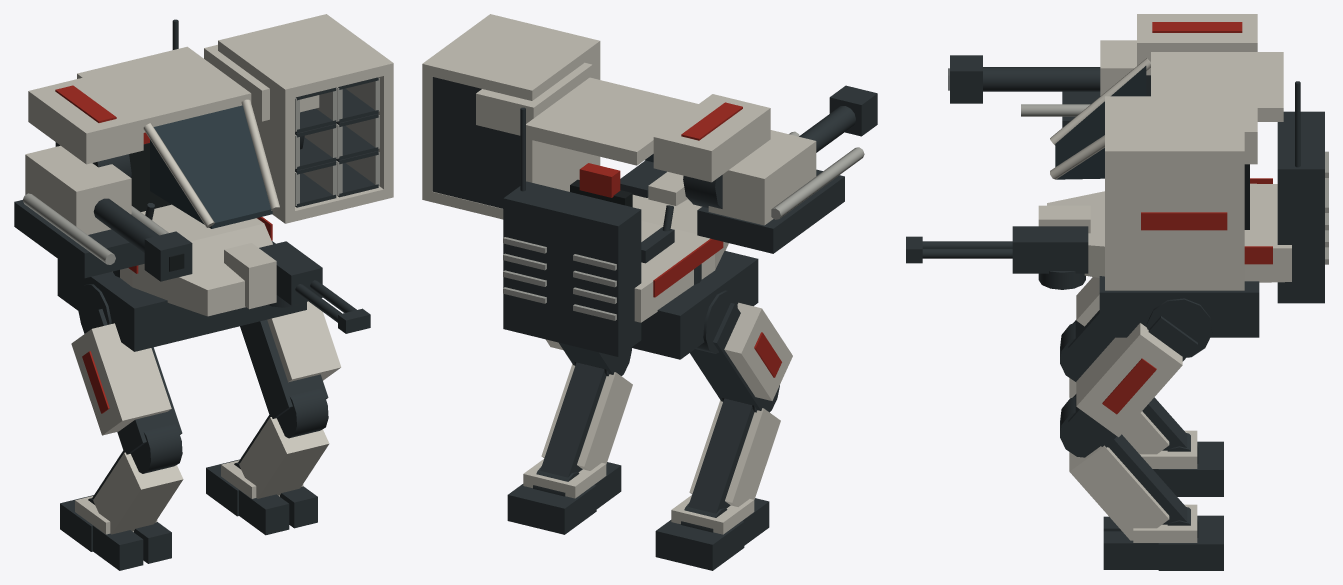
3 renders of one model, left to right at view 1: azimuth 30°, elevation 25°; view 2: azimuth 150°, elevation 25°; view 3: azimuth 270°, elevation 25°, orthographic. The views are drawn at different scales.
Visible parts, largest first — view 1: mech-torso-painted, mech-silo-right-painted, mech-hip-0-painted, mech-cannon-recoil-painted, mech-hip-1-painted, mech-knee-0-painted, mech-knee-1-painted, mech-mg-pitch-chin-painted, mech-cannon-pitch-painted, mech-ankle-1-painted, mech-ankle-0-painted, mech-seat-pilot-painted; view 2: mech-torso-painted, mech-silo-right-painted, mech-cannon-recoil-painted, mech-hip-0-painted, mech-knee-1-painted, mech-knee-0-painted, mech-cannon-pitch-painted, mech-ankle-0-painted, mech-ankle-1-painted, mech-seat-pilot-painted, mech-mg-pitch-chin-painted, mech-hip-1-painted; view 3: mech-torso-painted, mech-silo-right-painted, mech-hip-1-painted, mech-knee-1-painted, mech-mg-pitch-chin-painted, mech-cannon-recoil-painted, mech-ankle-1-painted, mech-ankle-0-painted, mech-knee-0-painted, mech-hip-0-painted, mech-cannon-pitch-painted, mech-mg-yaw-chin-painted.
Boxes of the visible parts, x1=… form: mech-torso-painted: x1=28, y1=19, x2=319, y2=351; mech-silo-right-painted: x1=218, y1=14, x2=393, y2=223; mech-hip-0-painted: x1=71, y1=284, x2=182, y2=454; mech-cannon-recoil-painted: x1=25, y1=145, x2=192, y2=281; mech-hip-1-painted: x1=240, y1=301, x2=341, y2=418; mech-knee-0-painted: x1=92, y1=424, x2=183, y2=534; mech-knee-1-painted: x1=238, y1=388, x2=329, y2=498; mech-mg-pitch-chin-painted: x1=224, y1=241, x2=370, y2=333; mech-cannon-pitch-painted: x1=14, y1=193, x2=168, y2=278; mech-ankle-1-painted: x1=206, y1=459, x2=317, y2=535; mech-ankle-0-painted: x1=60, y1=495, x2=171, y2=570; mech-seat-pilot-painted: x1=129, y1=132, x2=171, y2=219; mech-torso-painted: x1=476, y1=62, x2=770, y2=359; mech-silo-right-painted: x1=422, y1=14, x2=600, y2=219; mech-cannon-recoil-painted: x1=708, y1=85, x2=877, y2=225; mech-hip-0-painted: x1=690, y1=290, x2=792, y2=410; mech-knee-1-painted: x1=540, y1=348, x2=632, y2=477; mech-knee-0-painted: x1=688, y1=385, x2=780, y2=513; mech-cannon-pitch-painted: x1=697, y1=131, x2=864, y2=253; mech-ankle-0-painted: x1=655, y1=495, x2=769, y2=570; mech-ankle-1-painted: x1=507, y1=459, x2=621, y2=534; mech-seat-pilot-painted: x1=570, y1=163, x2=674, y2=263; mech-mg-pitch-chin-painted: x1=620, y1=160, x2=687, y2=205; mech-hip-1-painted: x1=545, y1=339, x2=624, y2=374; mech-torso-painted: x1=1047, y1=14, x2=1328, y2=337; mech-silo-right-painted: x1=1105, y1=96, x2=1244, y2=290; mech-hip-1-painted: x1=1068, y1=298, x2=1212, y2=447; mech-knee-1-painted: x1=1060, y1=396, x2=1187, y2=540; mech-mg-pitch-chin-painted: x1=906, y1=205, x2=1090, y2=273; mech-cannon-recoil-painted: x1=948, y1=40, x2=1136, y2=103; mech-ankle-1-painted: x1=1103, y1=504, x2=1223, y2=570; mech-ankle-0-painted: x1=1140, y1=430, x2=1223, y2=496; mech-knee-0-painted: x1=1060, y1=322, x2=1187, y2=454; mech-hip-0-painted: x1=1068, y1=277, x2=1114, y2=364; mech-cannon-pitch-painted: x1=1021, y1=91, x2=1100, y2=127; mech-mg-yaw-chin-painted: x1=1038, y1=271, x2=1085, y2=289.
Bounding box in the file's own units: 18.83 × 24.21 × 20.04.
